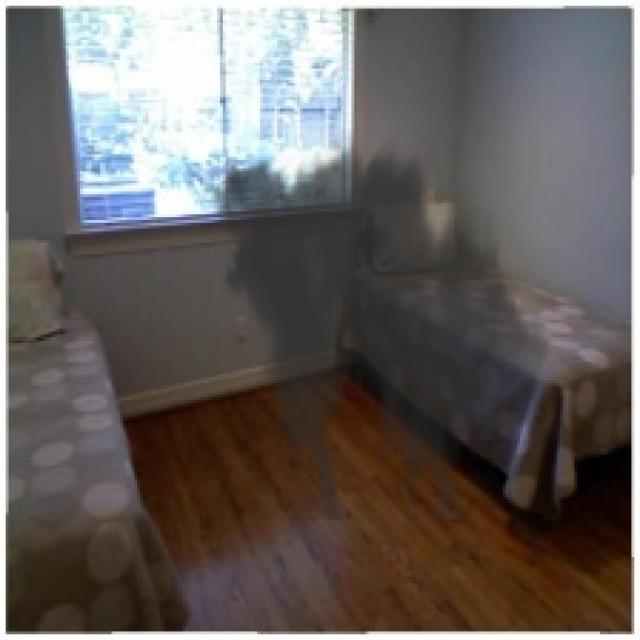smoke: (197, 126, 560, 520)
